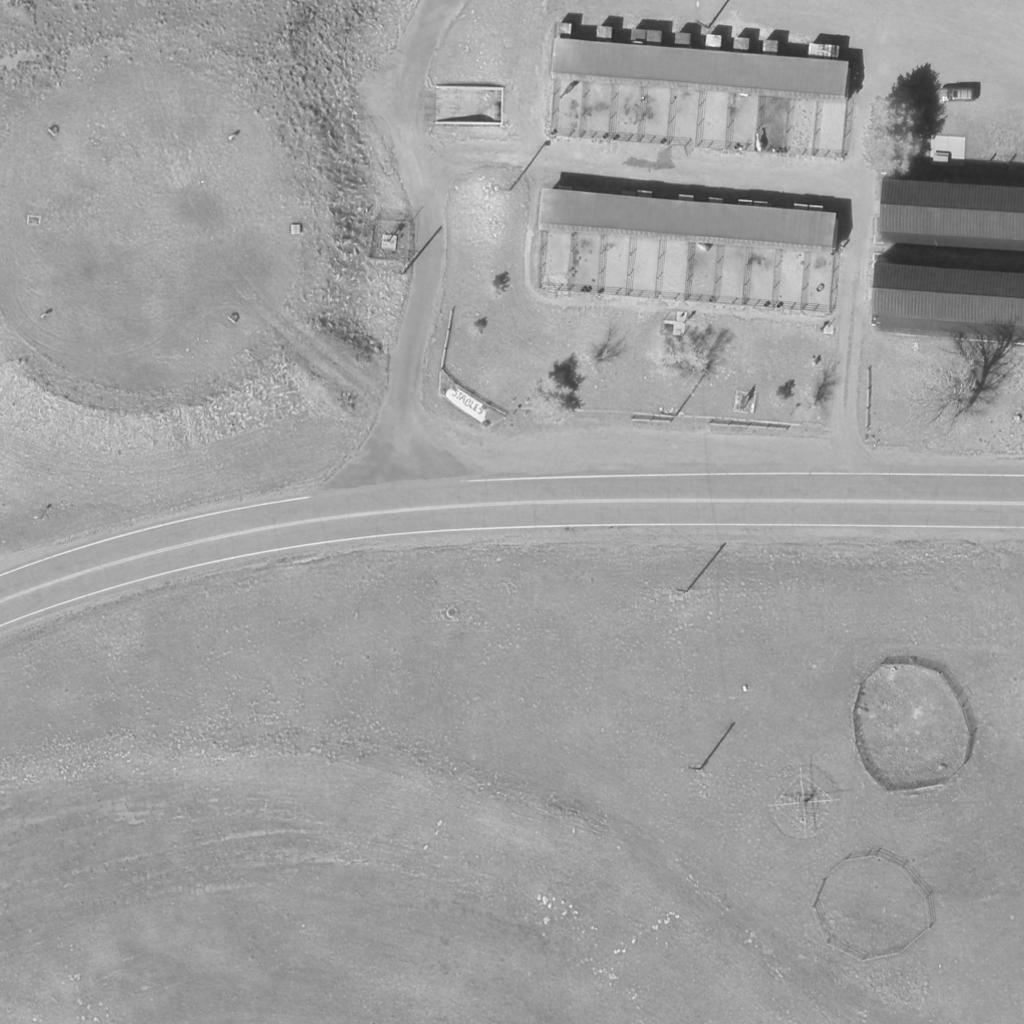vehicle: (937, 88, 975, 102)
